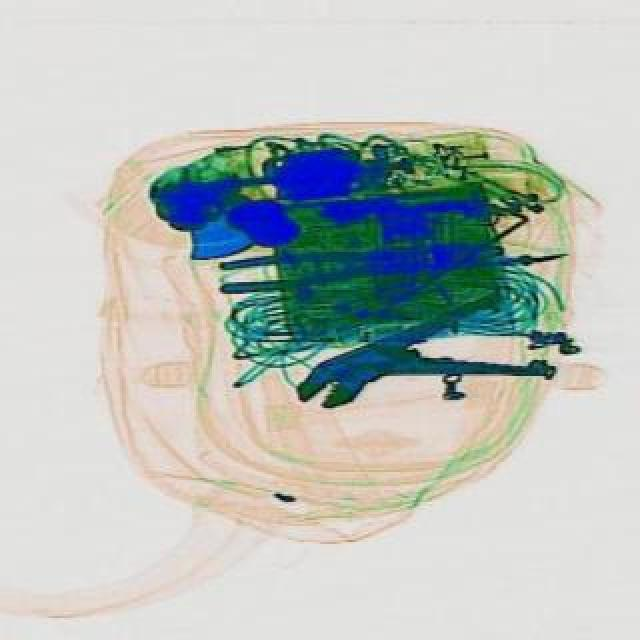wrench: (280, 282, 546, 442), (212, 232, 504, 292)
